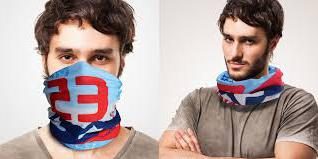mask_weared_incorrect: (214, 32, 268, 90)
with_mask: (47, 42, 118, 103)
